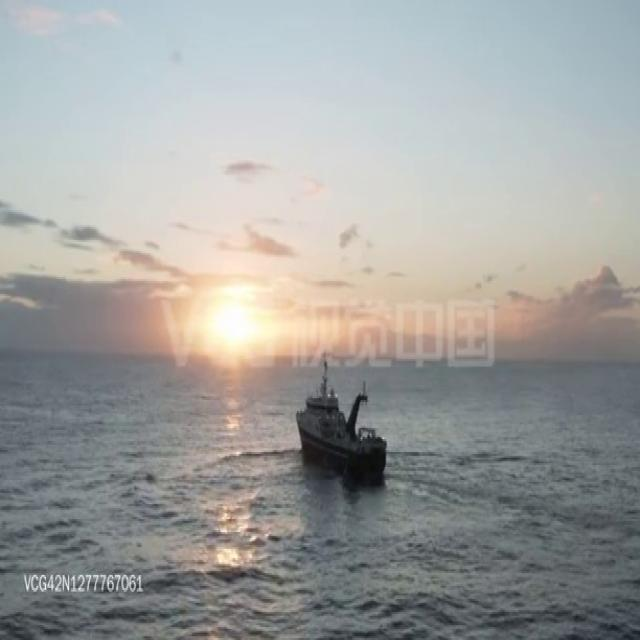houseboat: (296, 363, 388, 486)
